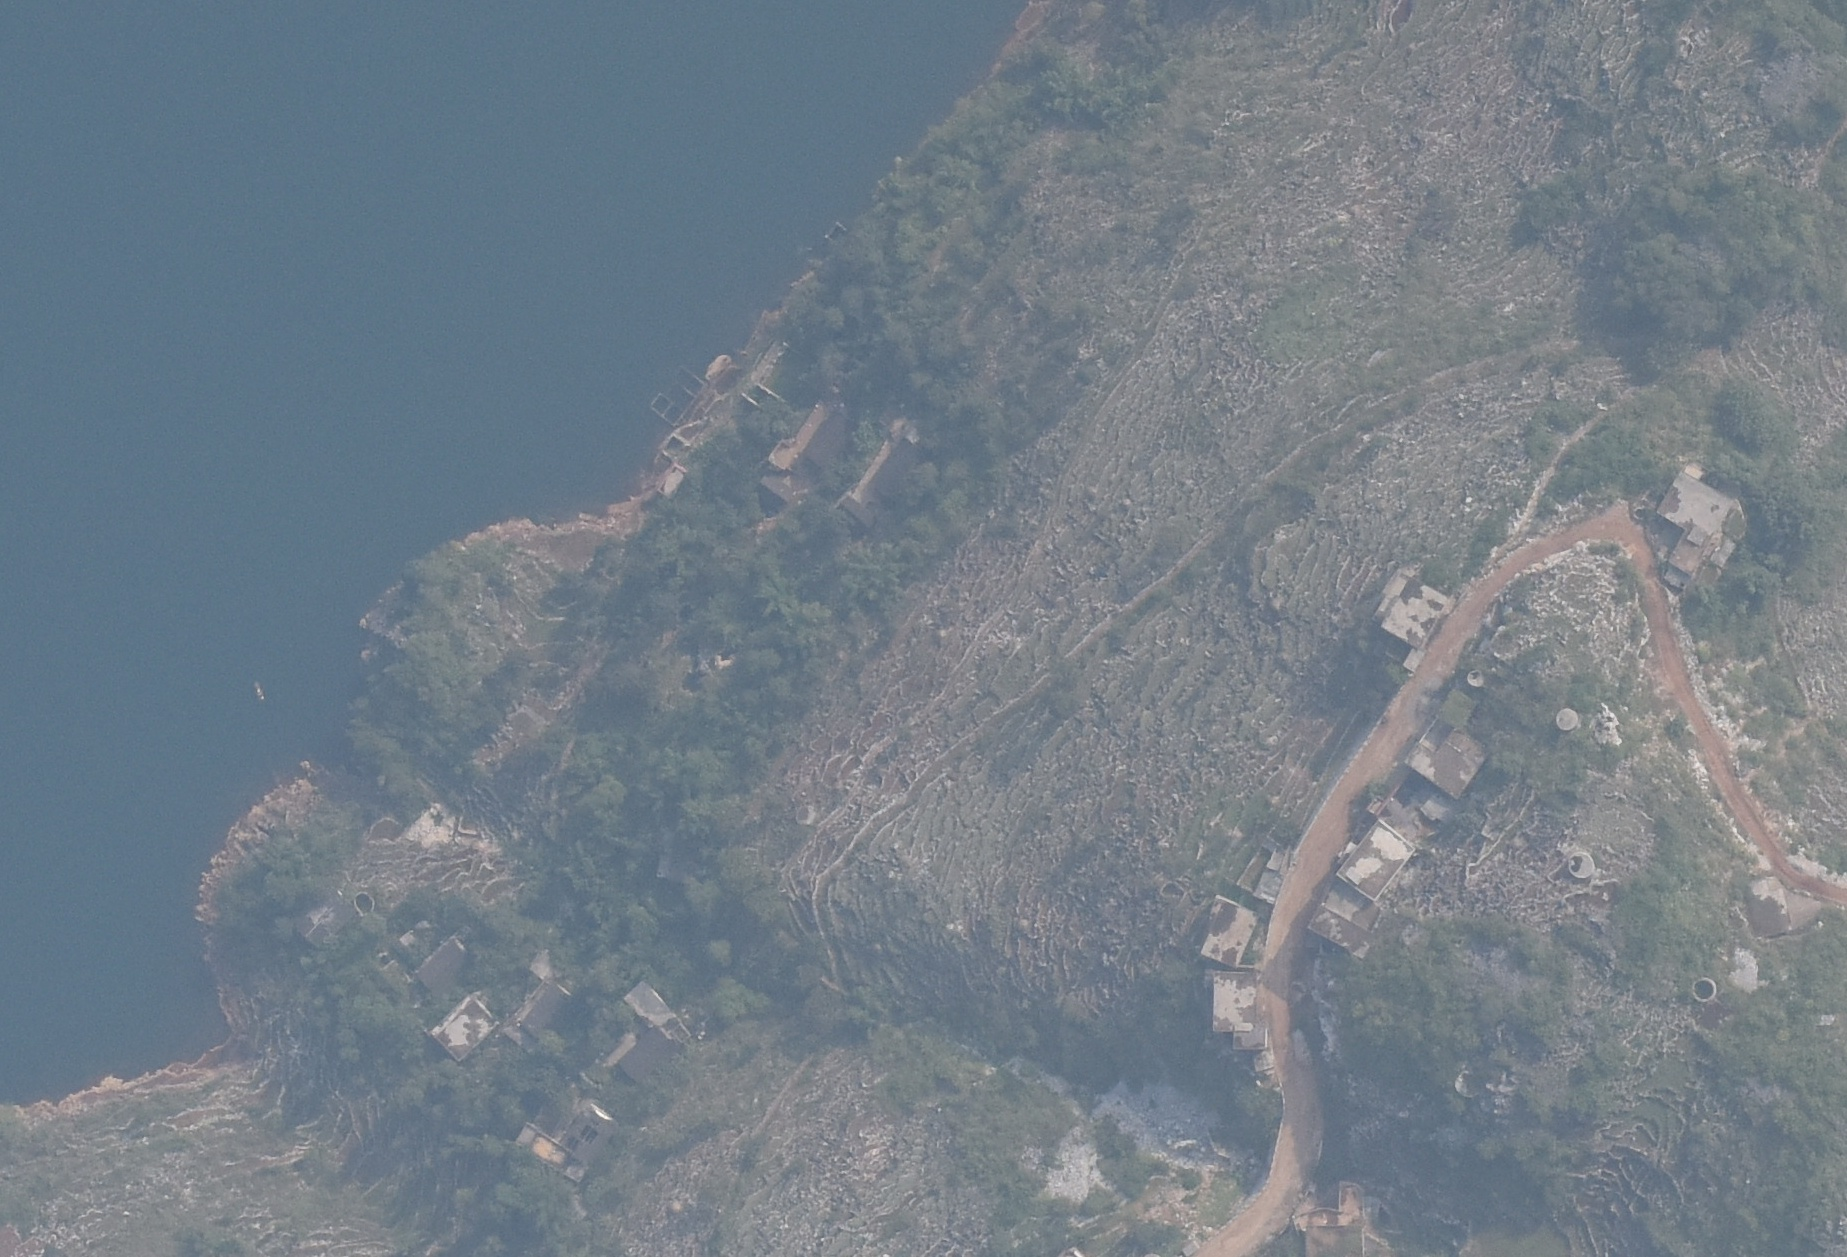building: (1658, 469, 1756, 591), (516, 1108, 631, 1185), (1209, 962, 1285, 1070), (1405, 717, 1492, 801), (1334, 816, 1414, 902), (1379, 568, 1457, 652), (425, 990, 499, 1066), (618, 1023, 684, 1091), (515, 978, 588, 1040), (1193, 896, 1255, 967), (292, 892, 358, 957), (405, 933, 471, 992), (801, 408, 860, 469), (1742, 875, 1795, 939), (832, 490, 878, 533), (757, 471, 798, 513)
cable-tower: (1027, 1063, 1234, 1197)
cultivation-mesh-cage: (651, 366, 705, 429)
ship: (250, 678, 266, 703)
well: (1690, 971, 1722, 1004), (1454, 1069, 1484, 1098), (1565, 852, 1597, 878), (351, 889, 376, 917), (1555, 707, 1579, 732), (1466, 666, 1488, 687)
